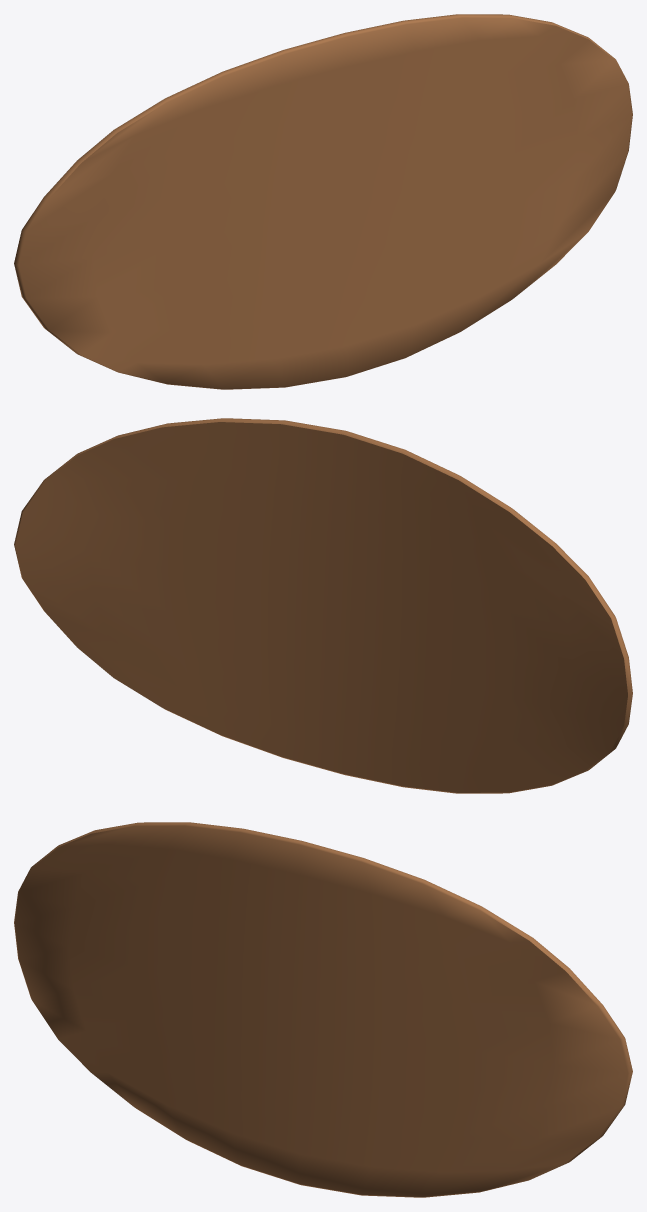
The model's file is mdl_chazzyb_pressedToken.gltf.
3 renders of one model, top to bottom at view 1: azimuth 30°, elevation 25°; view 2: azimuth 150°, elevation 25°; view 3: azimuth 330°, elevation 25°, orthographic.
Visible parts, largest first — view 1: PressedToken; view 2: TokenFace0, PressedToken; view 3: PressedToken.
Part boxes in pixels (x1,y1,x2,y2): PressedToken: (14, 14, 632, 389); TokenFace0: (15, 422, 627, 792); PressedToken: (14, 418, 632, 793); PressedToken: (14, 822, 632, 1197).
Size of what is drawn, in the model's own units: 0.0963 by 0.0511 by 0.00698.
2 materials, 2 textured.
